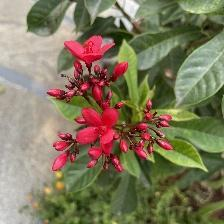jatropha: (78, 107, 122, 158), (63, 34, 118, 66)
